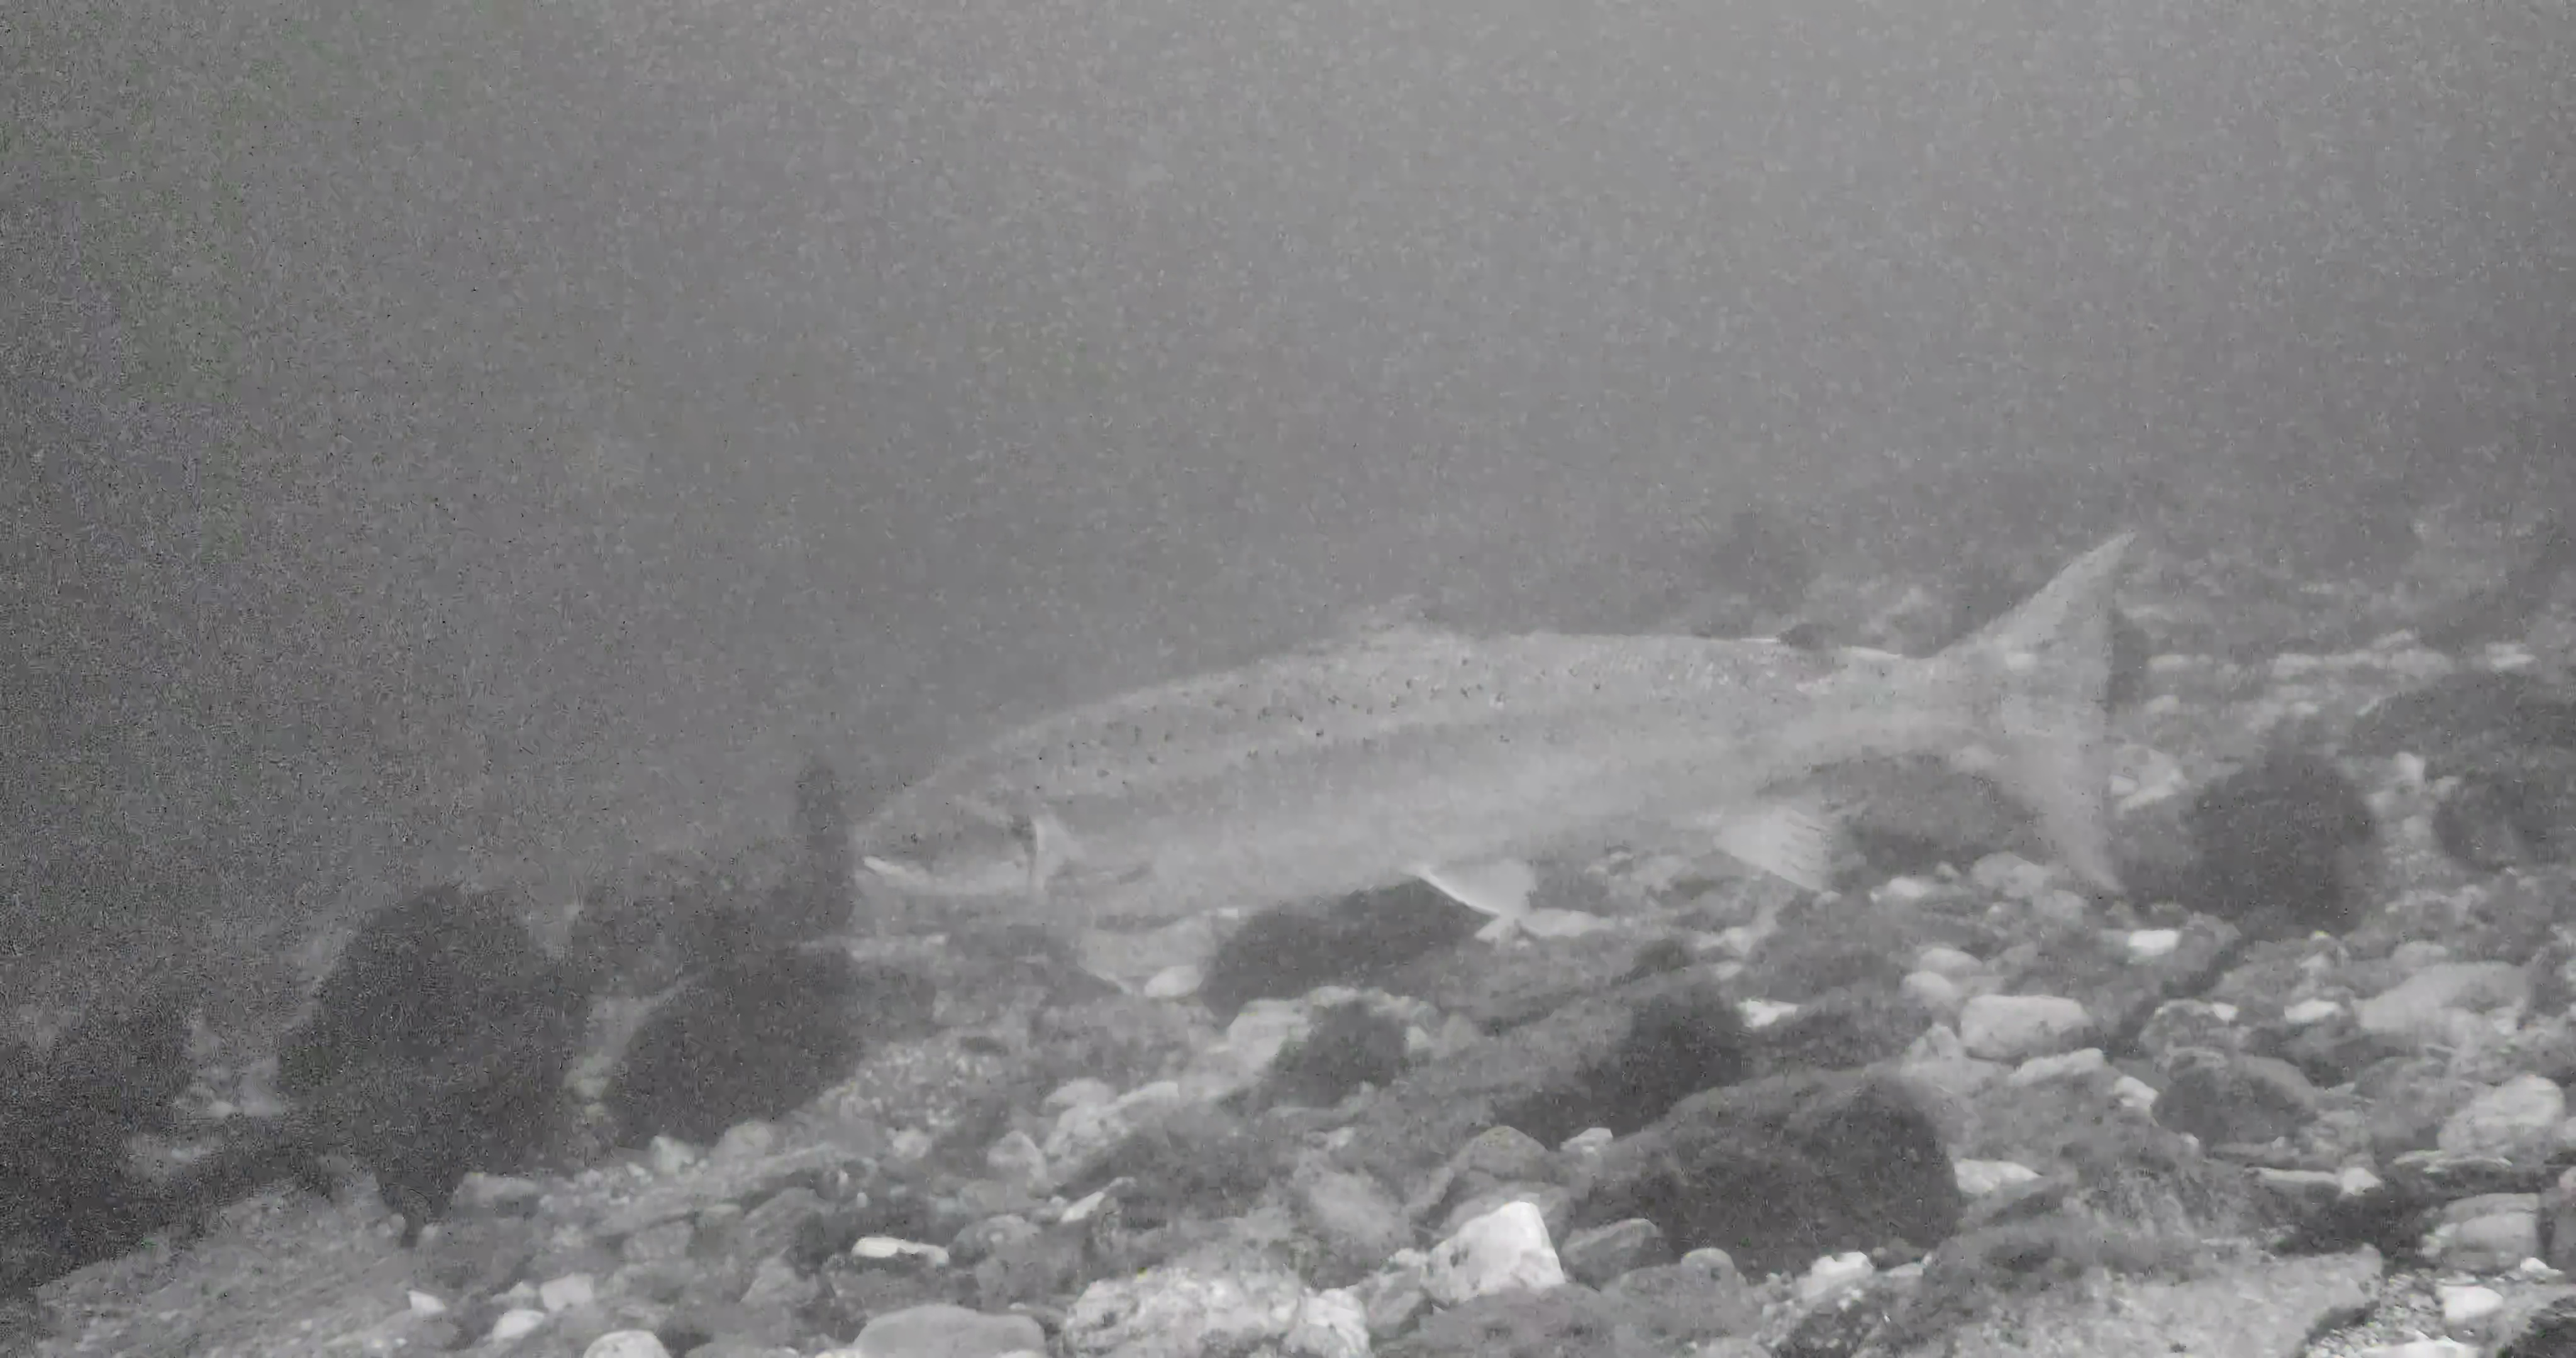salmon: (847, 530, 2136, 922)
